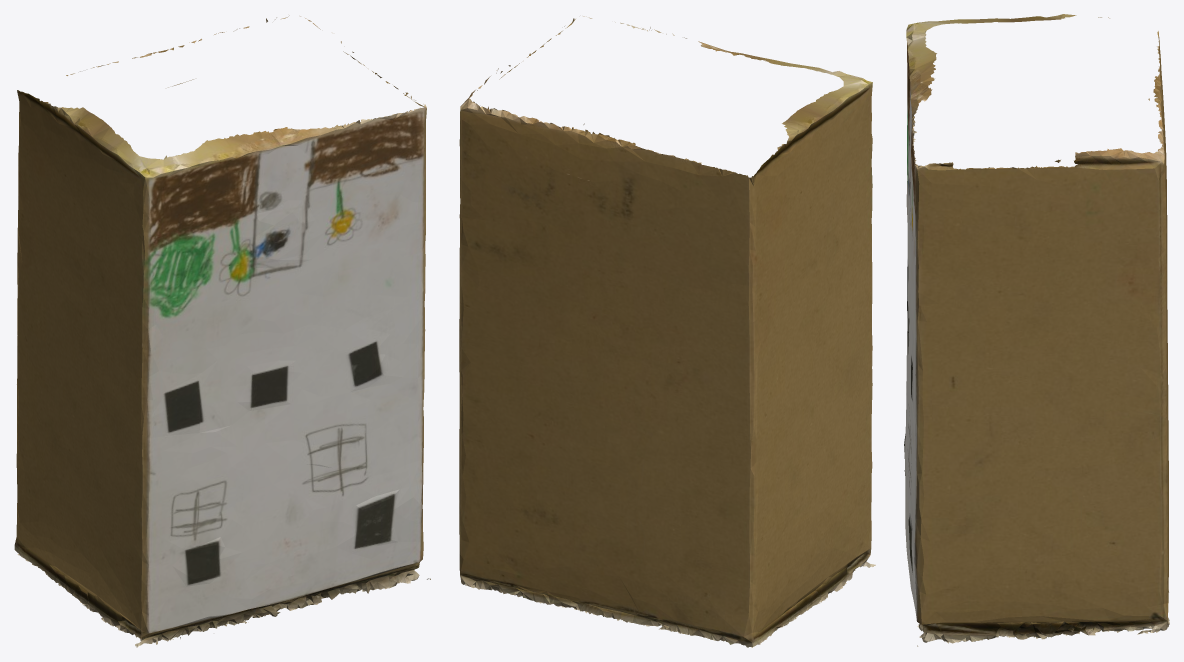
3 views of the same model, side by side, from view 1: azimuth 30°, elevation 25°; view 2: azimuth 150°, elevation 25°; view 3: azimuth 270°, elevation 25° (orthographic).
Visible parts, largest first — view 1: Object_0.001; view 2: Object_0.001; view 3: Object_0.001.
Part boxes in pixels (x1=…): Object_0.001: x1=14, y1=15, x2=430, y2=647; Object_0.001: x1=459, y1=16, x2=875, y2=647; Object_0.001: x1=904, y1=14, x2=1169, y2=646.
Size of the model in its own units: 11.39 by 17.8 by 8.7.
1 material, 1 textured.
